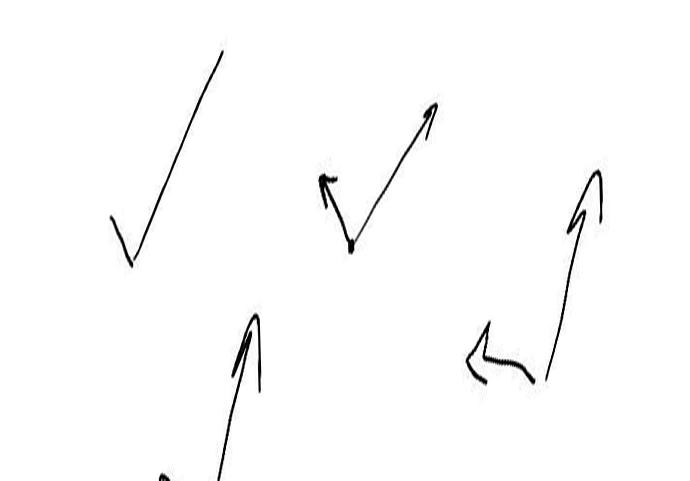arrow: (544, 169, 605, 382), (350, 101, 436, 245), (218, 311, 262, 478), (449, 321, 536, 387), (318, 173, 347, 244)
arrownohead: (135, 49, 224, 258), (102, 215, 132, 267)
